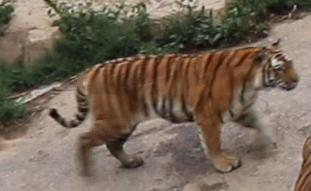tiger: (49, 40, 298, 175)
